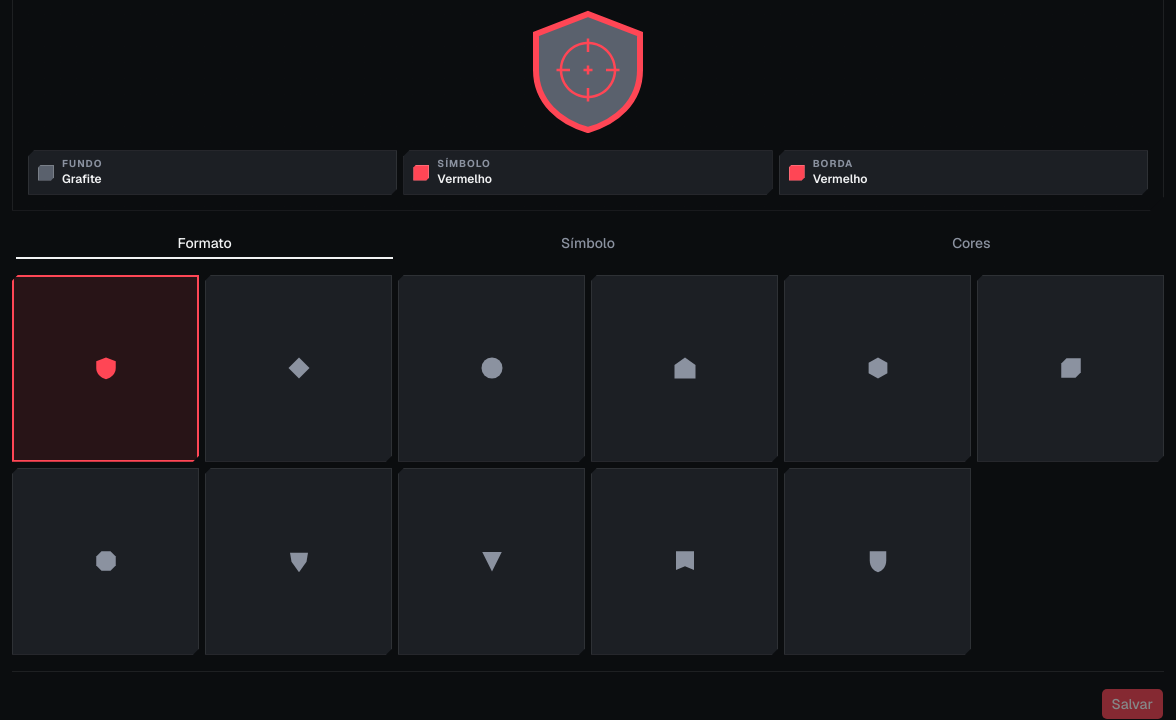
TeamIdentityForm › 'Desfazer' aparece depois de uma mudança e volta ao que estava salvo
(page scrolled)
Click the radio button named "Octógono": x=106, y=561 [12,468,199,655]
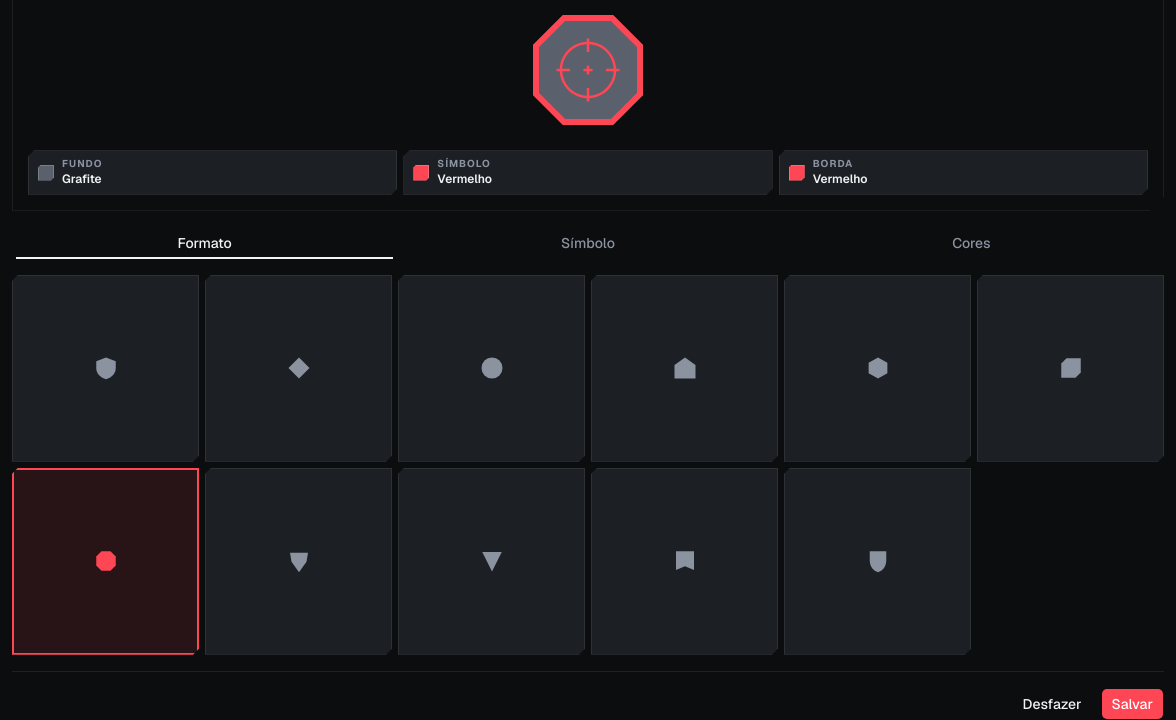
expect the button "Desfazer" is shown: met
Click the button "Desfazer": x=1052, y=704 [1012,688,1092,719]
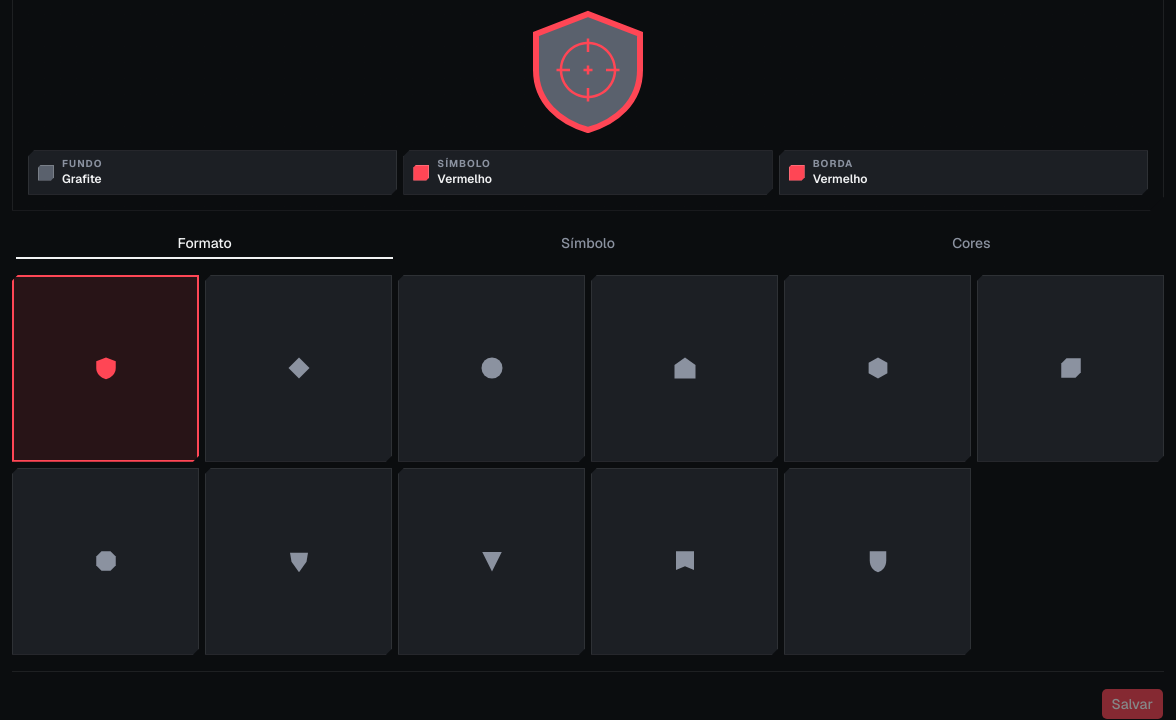
expect the radio button named "Escudo" is checked: met, box [12,275,199,462]
expect the button "Salvar" is disabled: met, box [1100,688,1164,719]
expect the button "Desfazer" is gone: met
